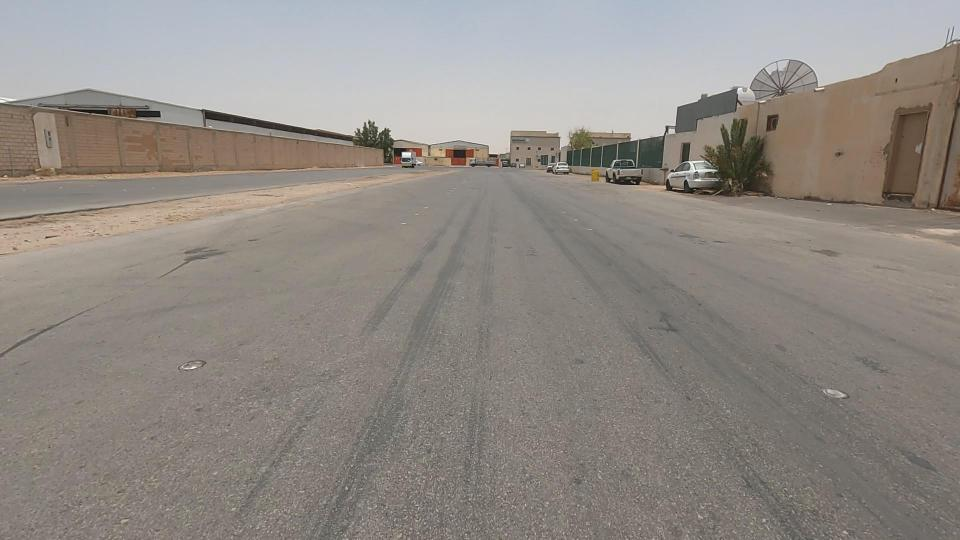CLUTTER_SIDEWALK: (0, 164, 267, 271), (196, 164, 346, 232), (306, 166, 414, 200)
